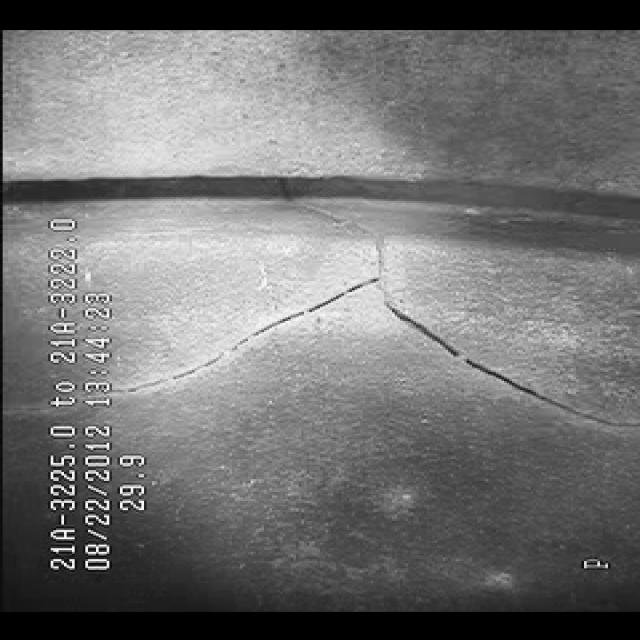Crack: (127, 245, 543, 410)
